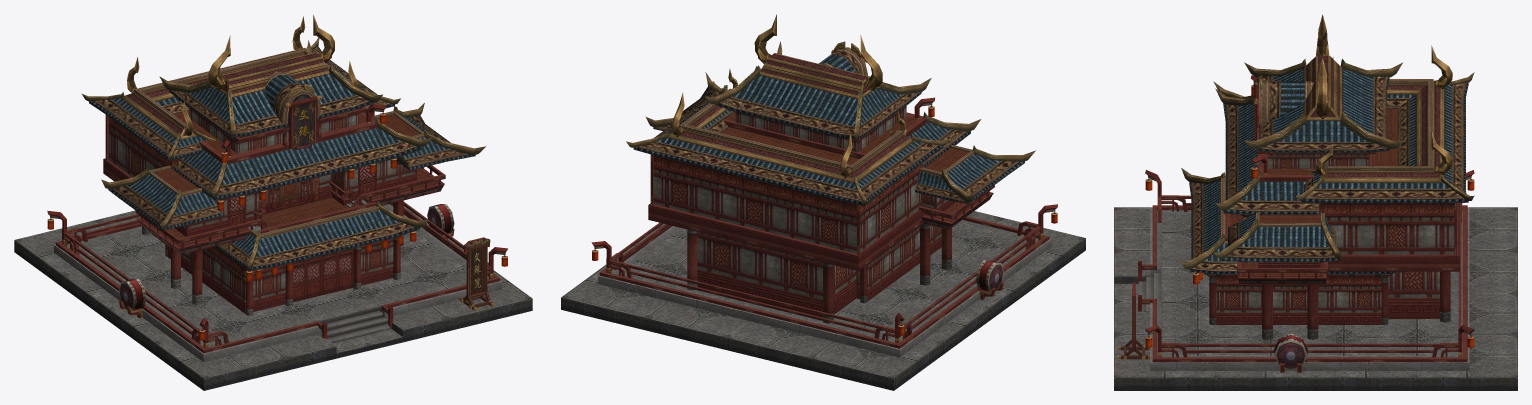
3 views of the same model, side by side, from view 1: azimuth 30°, elevation 25°; view 2: azimuth 150°, elevation 25°; view 3: azimuth 270°, elevation 25° (orthographic). The views are drawn at different scales.
Visible parts, largest first — view 1: g_37; view 2: g_37; view 3: g_37.
Part boxes in pixels (x1,y1,x2,y2): g_37: [14, 15, 532, 390]; g_37: [561, 14, 1085, 390]; g_37: [1114, 14, 1517, 390].
Bounding box in the file's own units: 20.01 × 14.79 × 19.98.
Materials: 3 (3 with a texture image).
